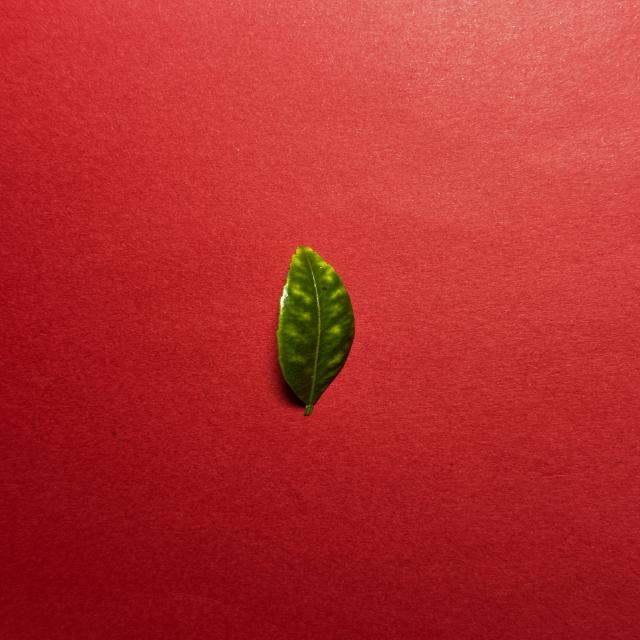greening: (277, 247, 354, 416)
